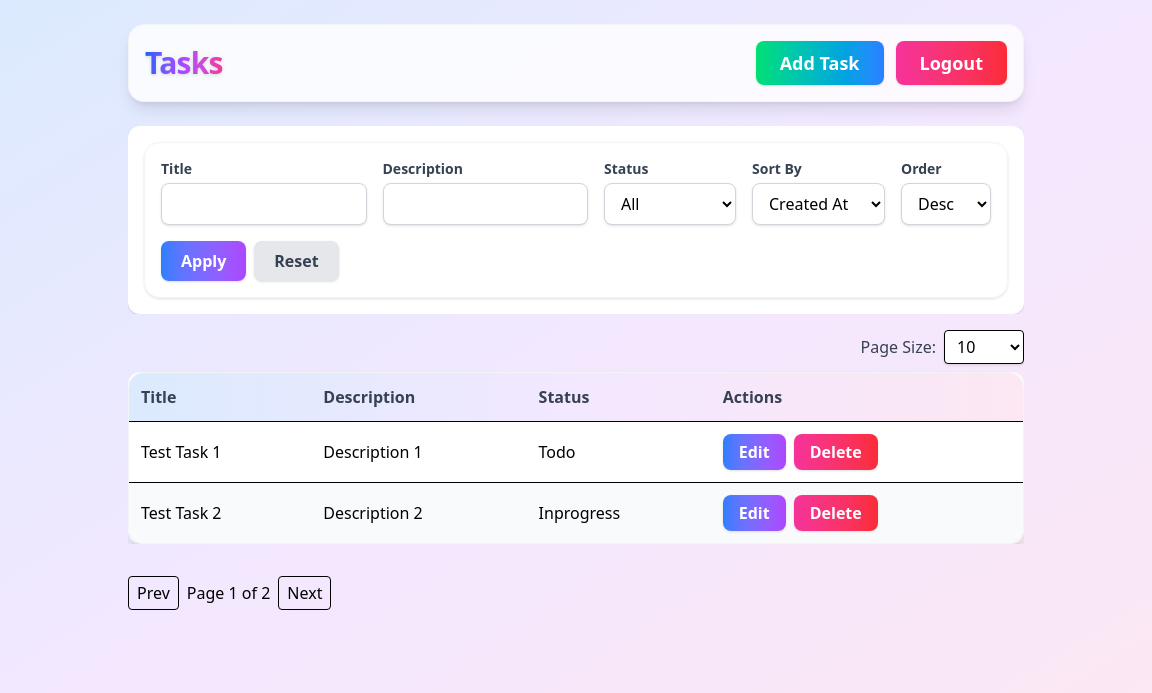
Test: Tasks Component › Task Editing › should show edit form when Edit button is clicked
The width and height of the screenshot is (1152, 693).
What coordinates should you click on to do the following:
click the button with test id "edit-task-button-0"
I would click on:
 (754, 452)
Its box is [723, 434, 786, 470].
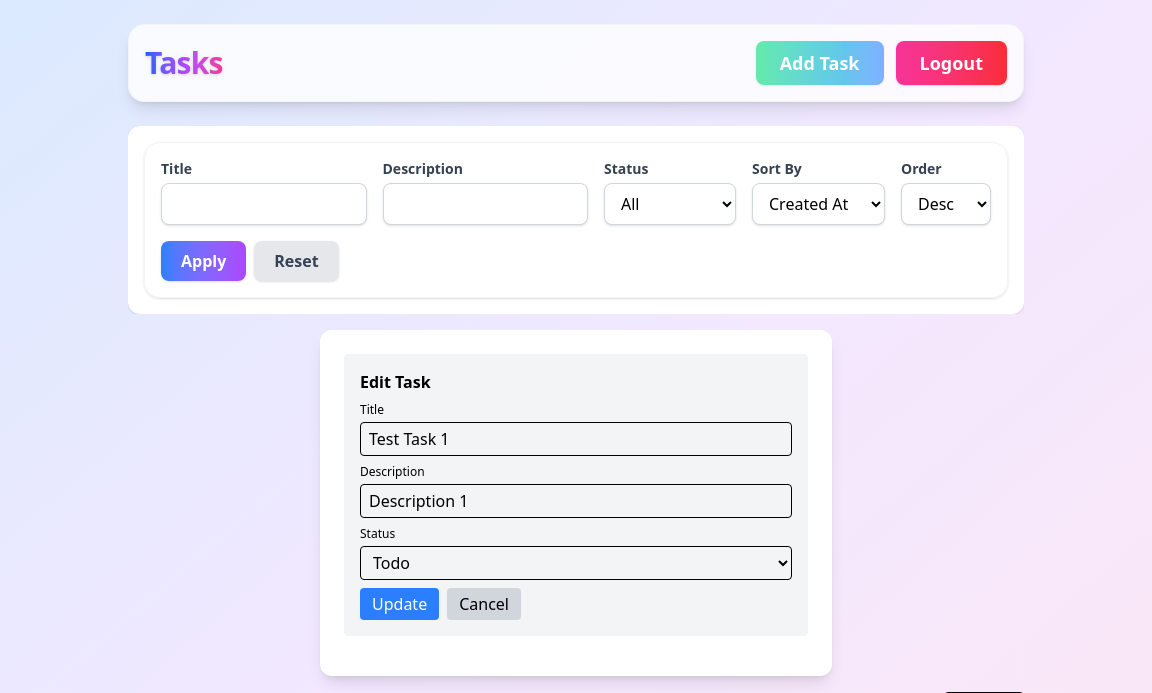
Expected: the element with test id "edit-task-form-container" is shown, [320, 330, 832, 676]
Expected: the form with test id "task-form" is shown, [344, 354, 808, 636]
